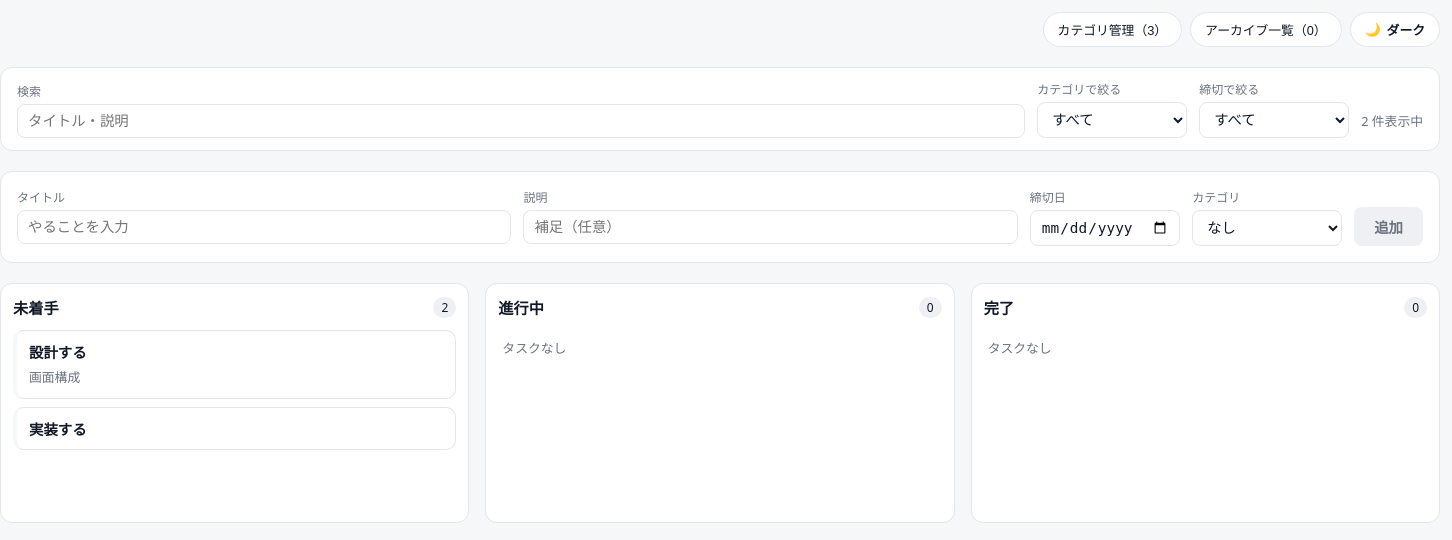
Scenario: KanbanBoard › キーワードで絞り込み、クリアで元に戻る
The image size is (1452, 540).
Check: the text "2 件表示中" is shown, box [1361, 111, 1423, 130]
Type "設計" into the search field labelled "検索" at (521, 121), box [17, 104, 1025, 138]
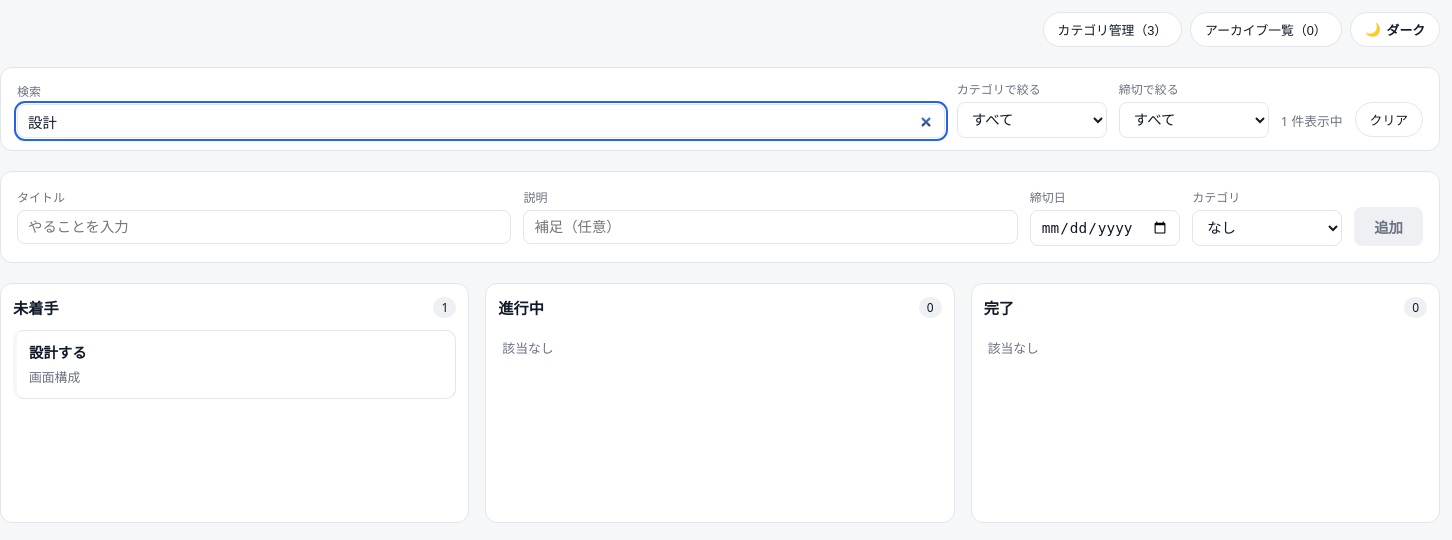
Check: the heading "設計する" is shown, box [29, 343, 87, 362]
Check: the button "実装する" is gone
Check: the text "1 件表示中" is shown, box [1281, 111, 1343, 130]
Click the button "クリア" at (1389, 120), box [1355, 102, 1423, 137]
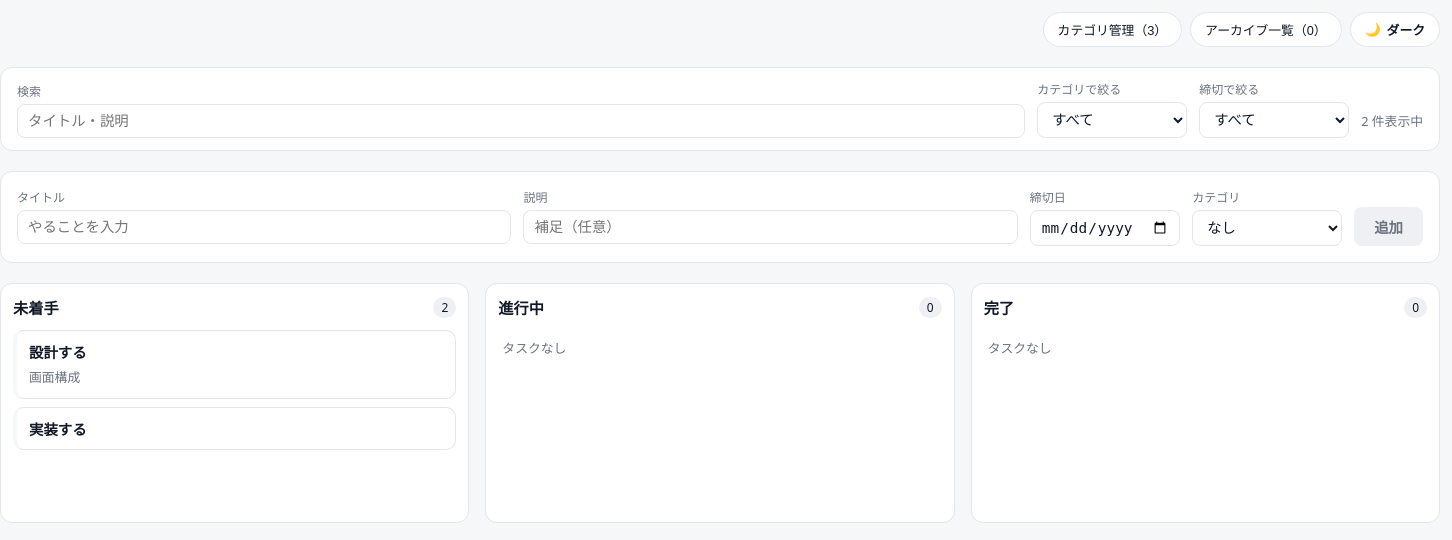
Check: the heading "実装する" is shown, box [29, 420, 87, 439]
Check: the text "2 件表示中" is shown, box [1361, 111, 1423, 130]
